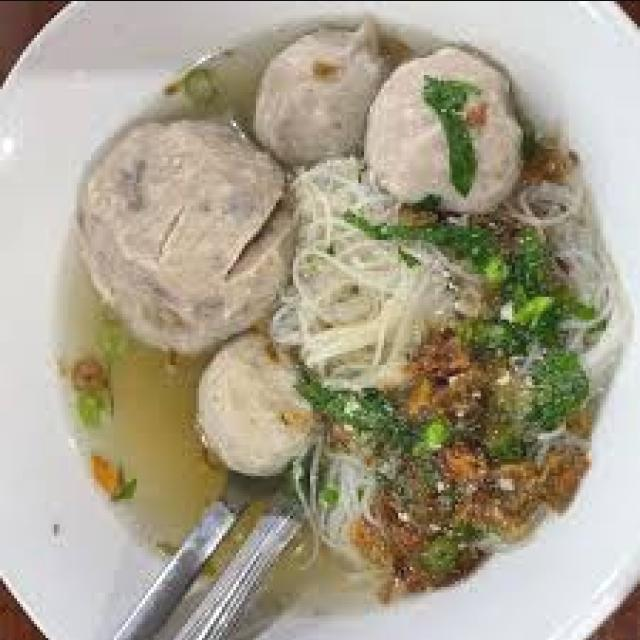bakso: (57, 20, 603, 600)
